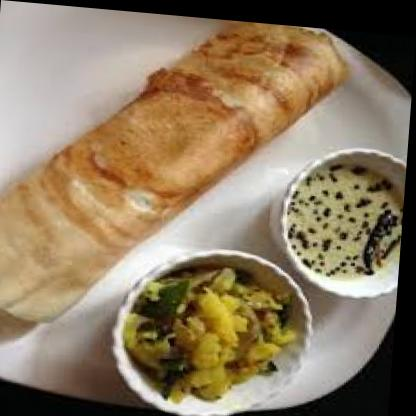dosa: (0, 0, 354, 340)
